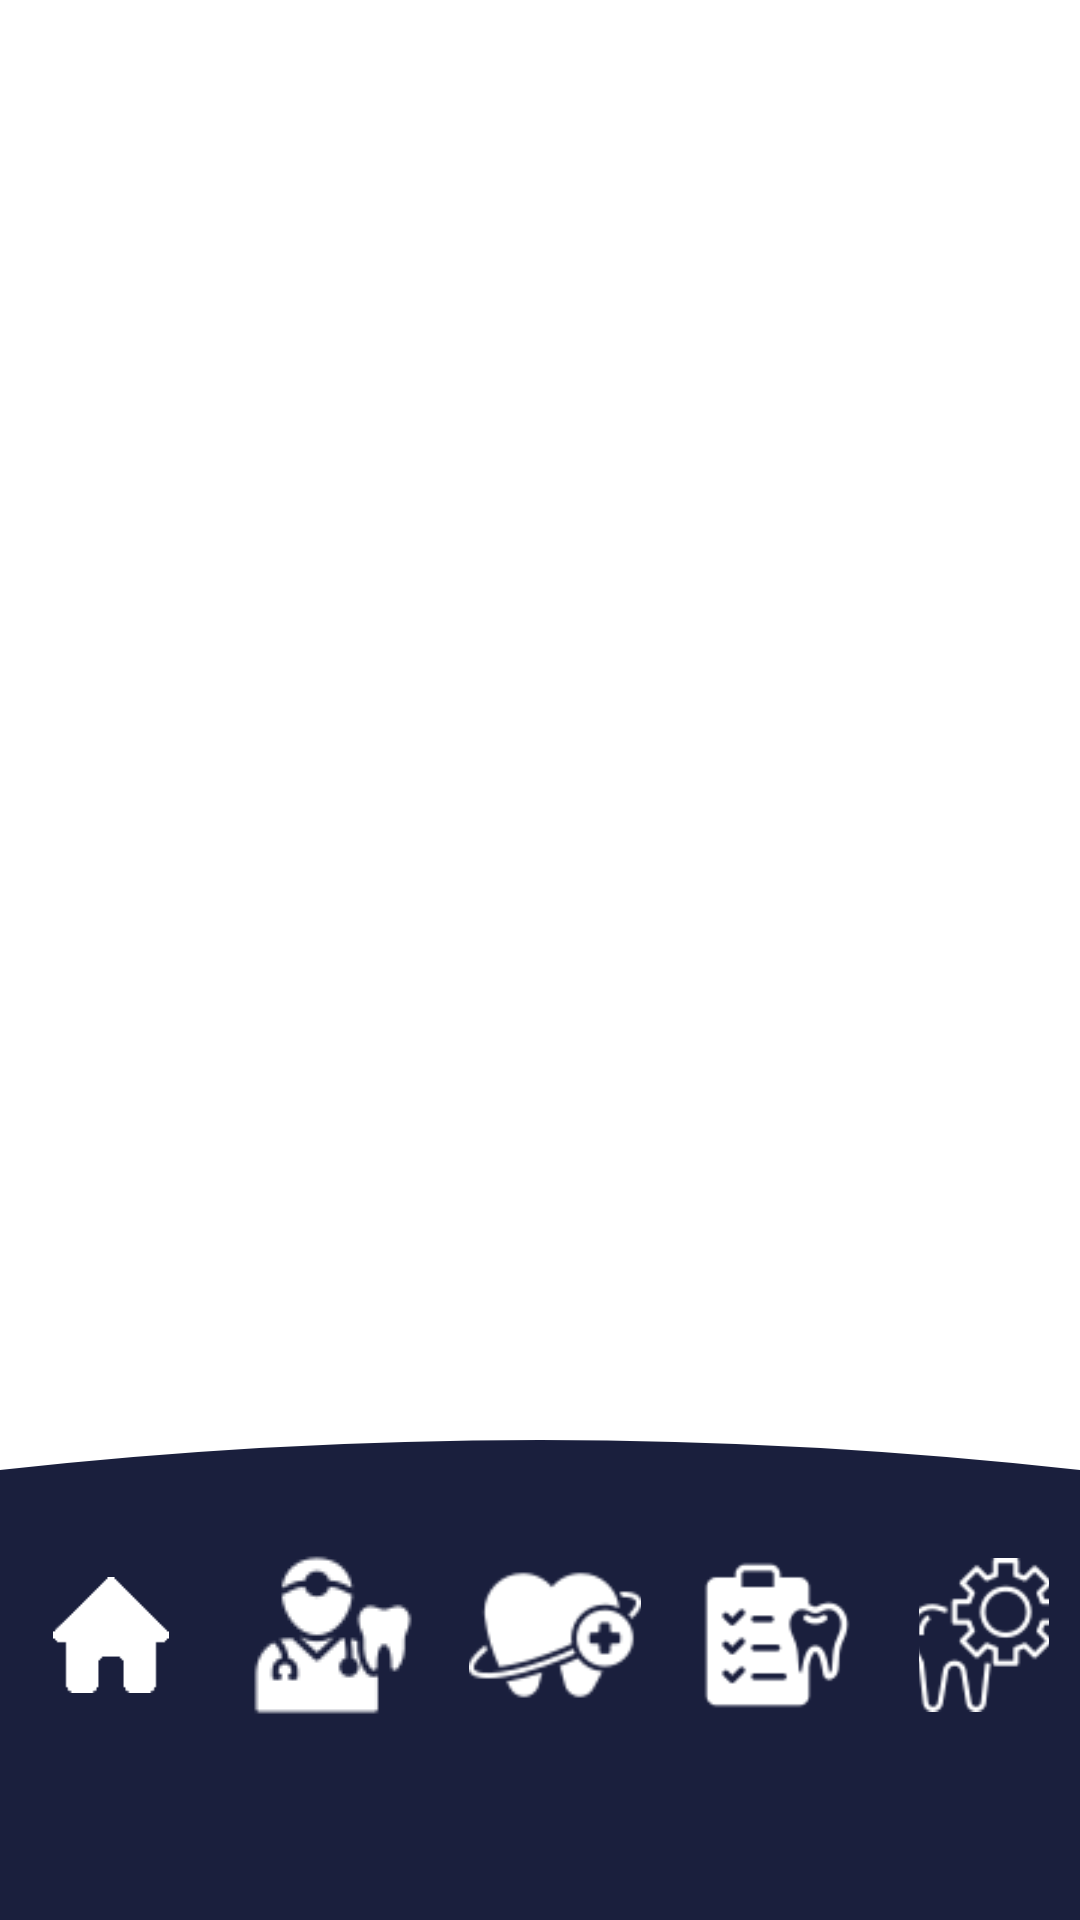

Screen size 1080px x 1920px. Icon name, then its center in pixels as (x=x, y=y):
dentist: (x=333, y=1635)
